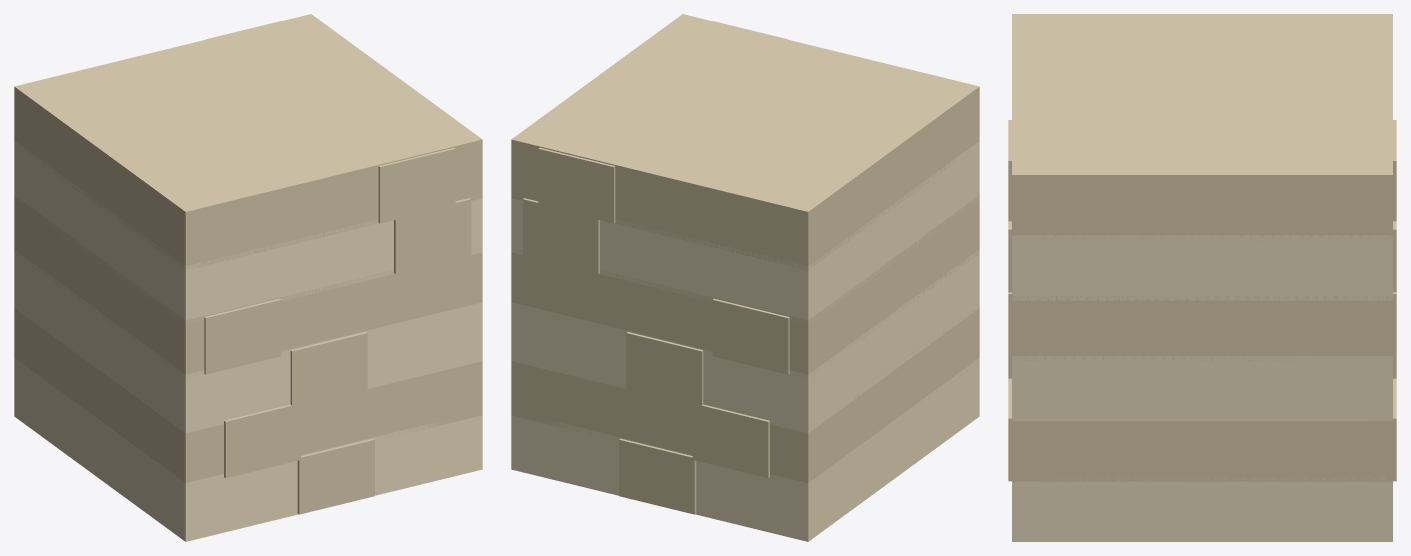
File: mumia_canela.glb
The picture shows the model from 3 angles, left to right: view 1: azimuth 30°, elevation 25°; view 2: azimuth 150°, elevation 25°; view 3: azimuth 270°, elevation 25°; orthographic projection. The views are drawn at different scales.
Visible parts, largest first — view 1: mumia_canela; view 2: mumia_canela; view 3: mumia_canela.
Part boxes in pixels (left/top/right/bottom): mumia_canela: left=14, top=14, right=482, bottom=541; mumia_canela: left=511, top=14, right=979, bottom=541; mumia_canela: left=1008, top=14, right=1396, bottom=541.
Size of the model in its own units: 0.275 by 0.292 by 0.28.
